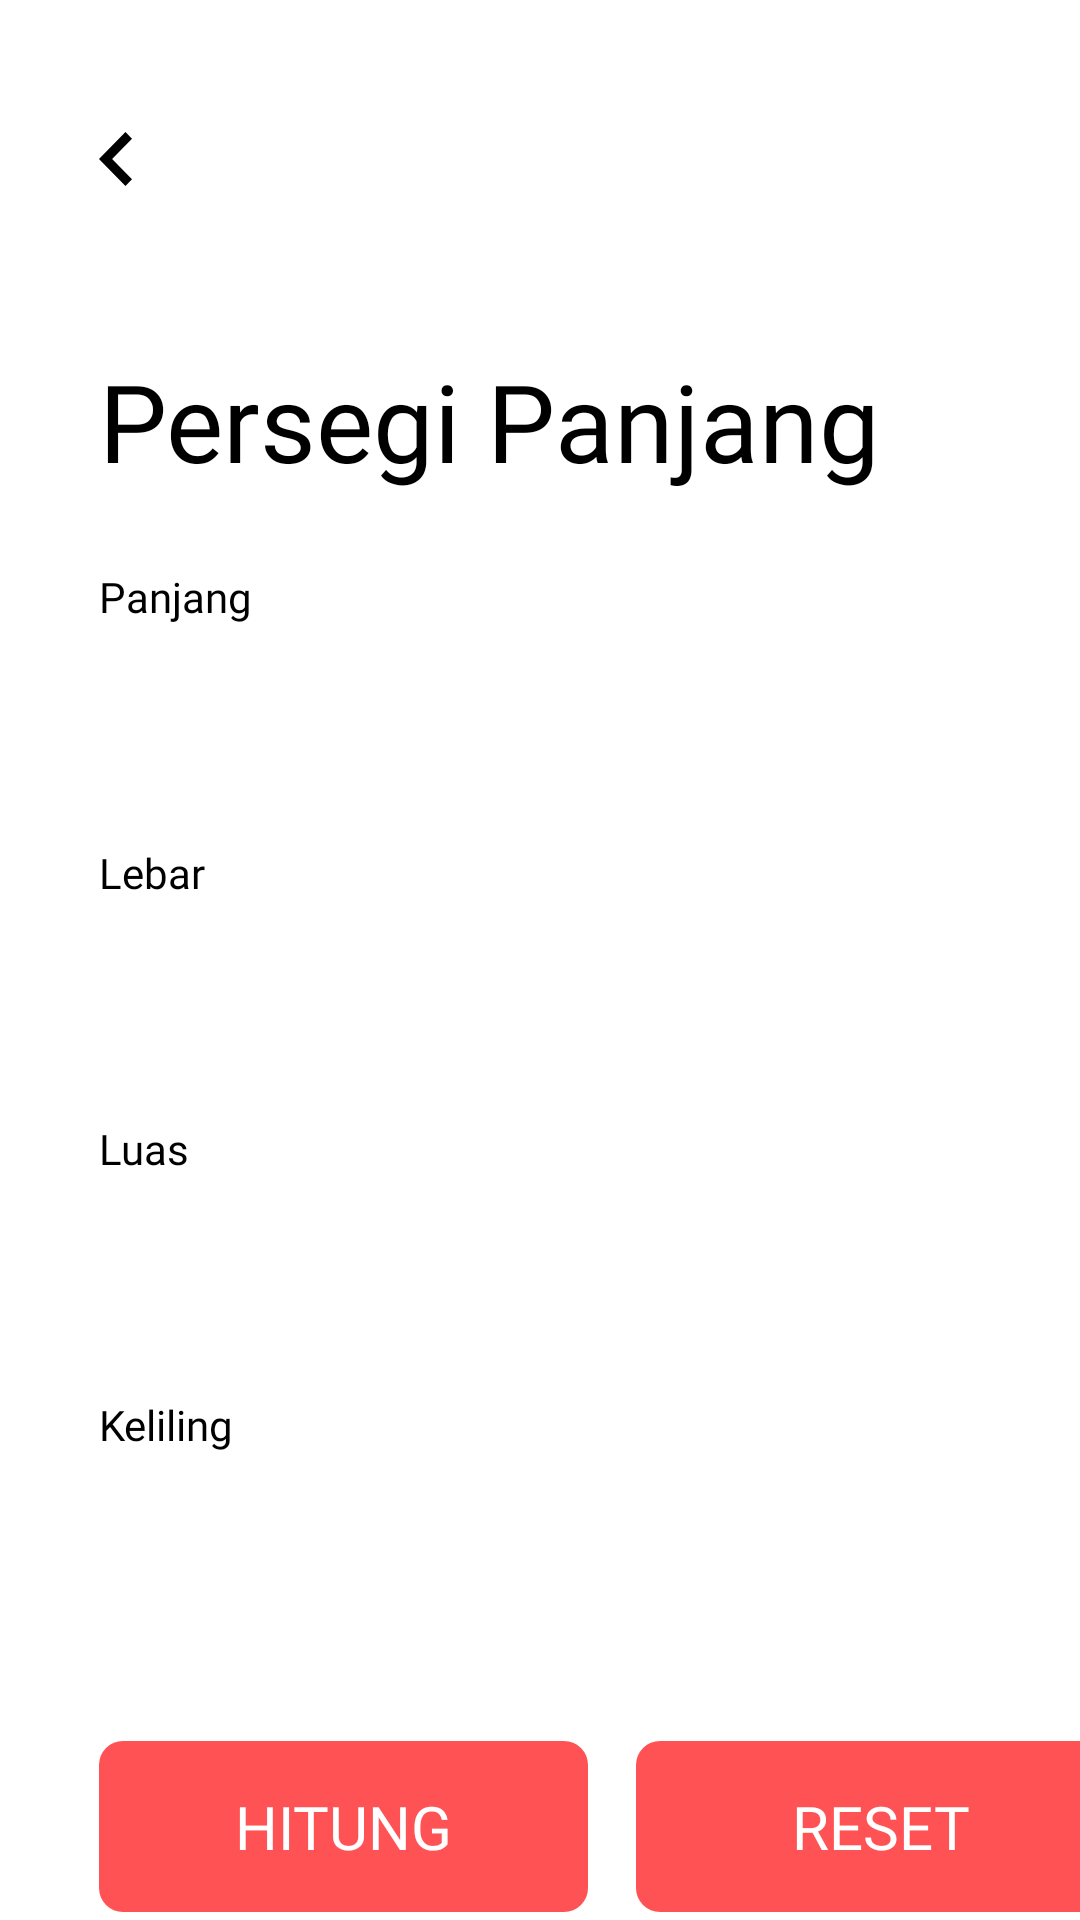

Screen size 1080 x 1920. Icon name, then its center in pixels as (x,y):
btnback: (115,159)
